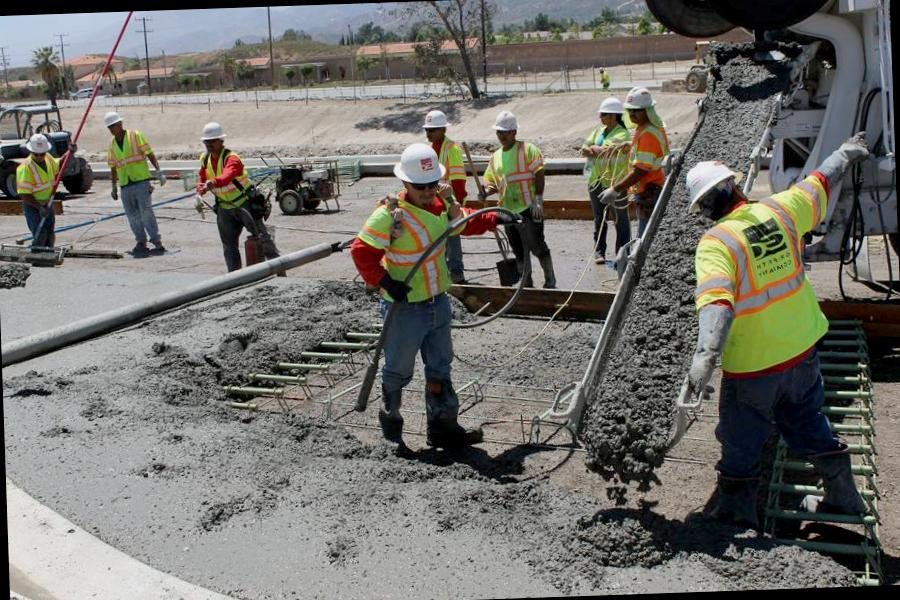helmet: (679, 151, 751, 216), (387, 140, 452, 187), (624, 77, 658, 116), (198, 116, 232, 144), (25, 130, 59, 158), (419, 105, 454, 131), (595, 94, 629, 120), (492, 110, 525, 136), (100, 105, 132, 131)
person: (666, 131, 869, 545), (354, 137, 485, 454), (472, 101, 556, 282), (188, 113, 274, 270), (97, 107, 172, 256), (574, 94, 637, 266), (619, 83, 676, 229), (5, 131, 74, 248)
